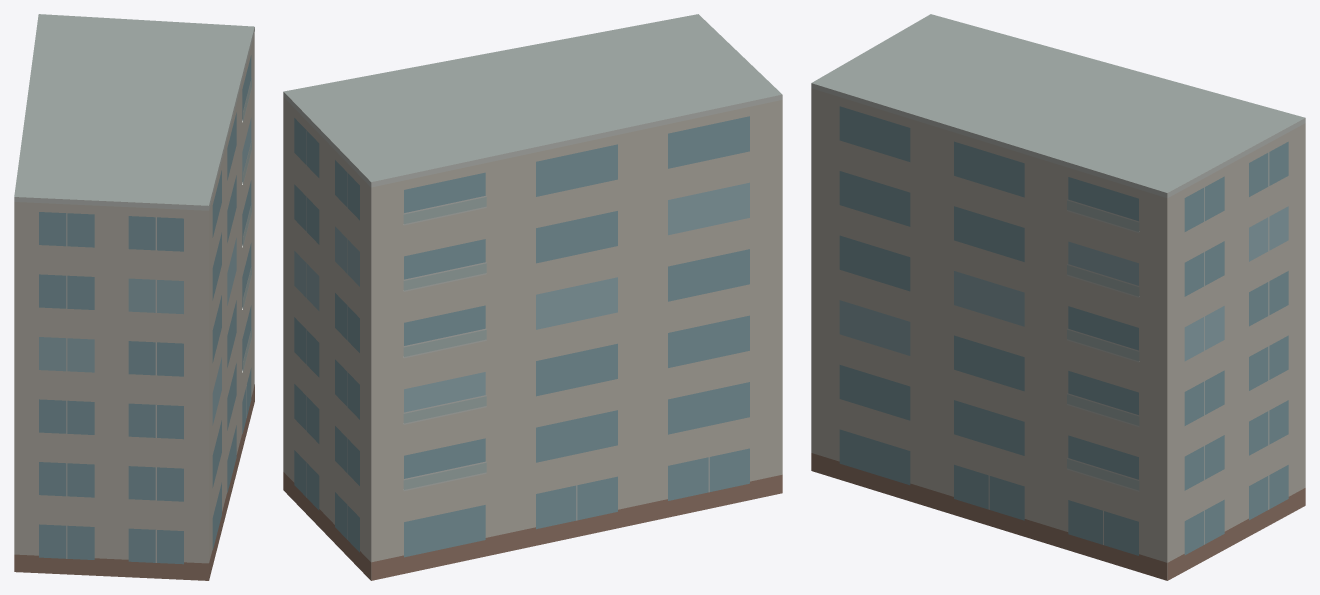
Rendered from survey-upis-32960610.glb.
The picture shows the model from 3 angles, left to right: view 1: azimuth 30°, elevation 25°; view 2: azimuth 150°, elevation 25°; view 3: azimuth 270°, elevation 25°; orthographic projection. The views are drawn at different scales.
Visible parts, largest first — view 1: survey-upis-32960610.tmp; view 2: survey-upis-32960610.tmp; view 3: survey-upis-32960610.tmp.
Boxes of the visible parts, bbox=[...] form: survey-upis-32960610.tmp: bbox=[14, 14, 254, 580]; survey-upis-32960610.tmp: bbox=[283, 14, 782, 580]; survey-upis-32960610.tmp: bbox=[811, 14, 1305, 580].
Bounding box in the file's own units: 18.14 × 18.3 × 21.16.
